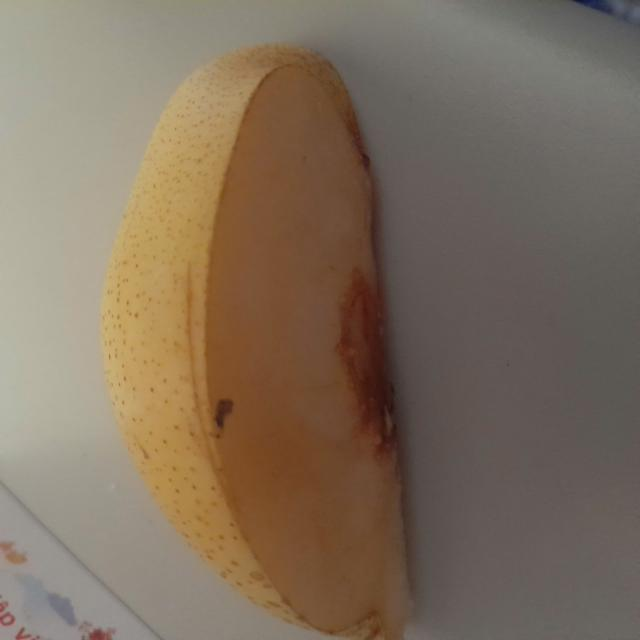Le: (79, 20, 422, 639)
